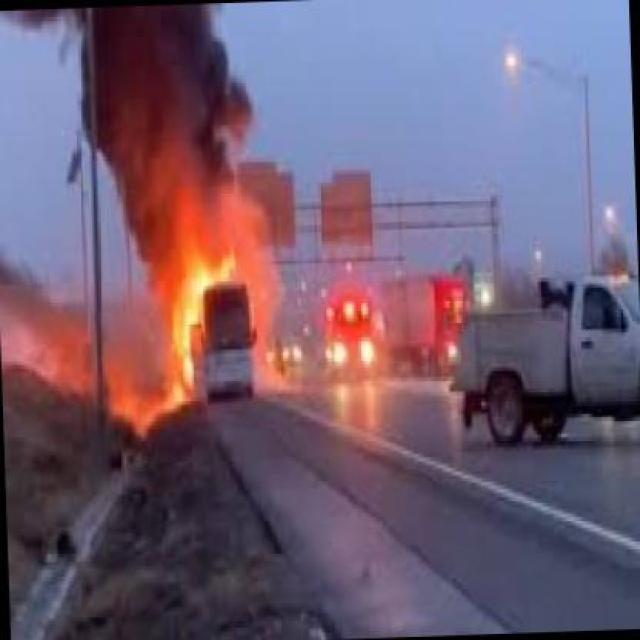Fire: (168, 249, 254, 386)
Smoke: (51, 6, 312, 244)
